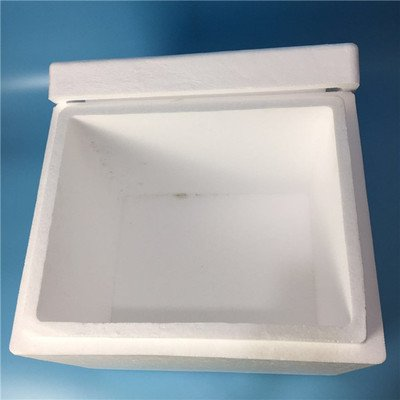5/可回收垃圾/泡沫: (8, 42, 386, 375)
